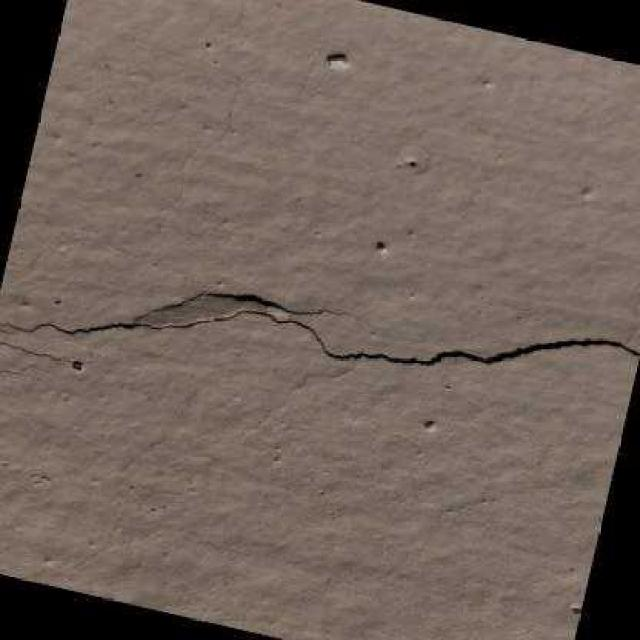D00: (0, 309, 640, 366), (129, 292, 361, 322), (0, 341, 94, 365), (0, 363, 52, 375)
